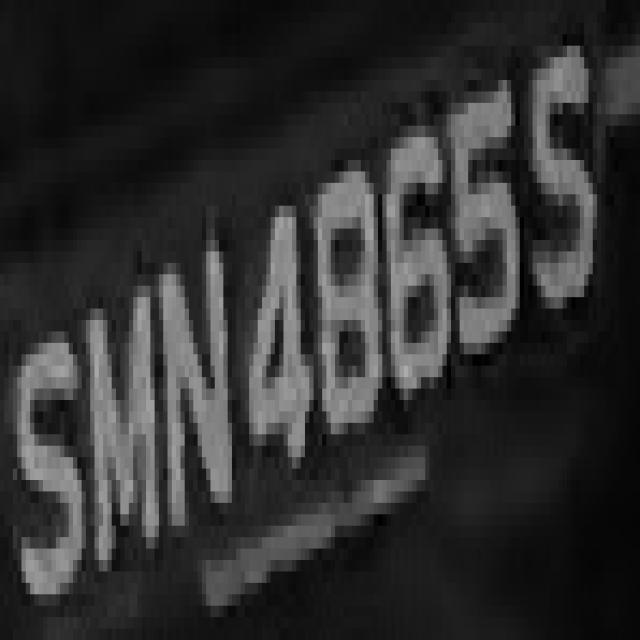4: (232, 160, 318, 503)
5: (442, 46, 524, 366)
6: (378, 103, 451, 423)
8: (305, 137, 391, 469)
M: (73, 240, 155, 583)
N: (154, 217, 240, 526)
S: (516, 46, 602, 331), (9, 297, 90, 594)
